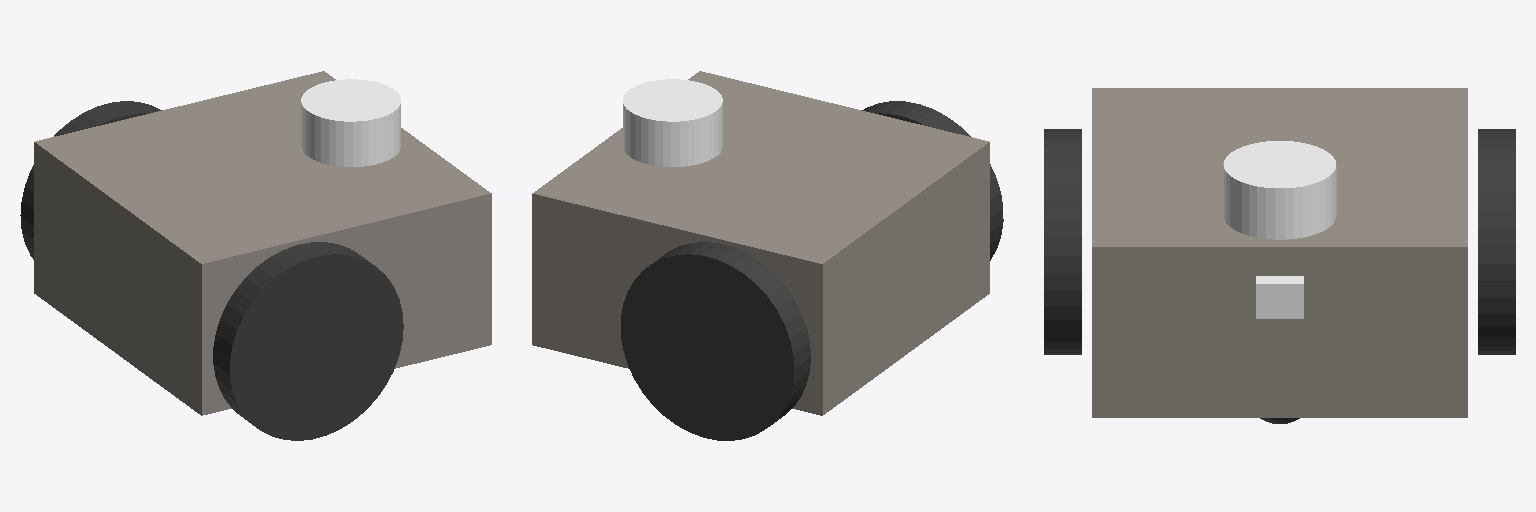
The robot description file, URDF, robot "bot_description":
<?xml version="1.0" encoding="utf-8"?>
<!-- This URDF was automatically created by SolidWorks to URDF Exporter! Originally created by [author] ([email redacted]) 
     Commit Version: 1.6.0-4-g7f85cfe  Build Version: 1.6.7995.38578
     For more information, please see http://wiki.ros.org/sw_urdf_exporter -->
<robot
  name="bot_description">
  <link
    name="base_link">
    <inertial>
      <origin
        xyz="1.19817892586804E-16 -3.12340575856866E-18 0.0700000000000001"
        rpy="0 0 0" />
      <mass
        value="29.2" />
      <inertia
        ixx="0.121666666666667"
        ixy="-1.86575292252892E-17"
        ixz="4.11563144675498E-18"
        iyy="0.121666666666667"
        iyz="4.34779527195654E-18"
        izz="0.194666666666667" />
    </inertial>
    <visual>
      <origin
        xyz="0 0 0"
        rpy="0 0 0" />
      <geometry>
        <mesh
          filename="package://bot_description/meshes/base_link.STL" />
      </geometry>
      <material
        name="">
        <color
          rgba="0.647058823529412 0.619607843137255 0.588235294117647 1" />
      </material>
    </visual>
    <collision>
      <origin
        xyz="0 0 0"
        rpy="0 0 0" />
      <geometry>
        <mesh
          filename="package://bot_description/meshes/base_link.STL" />
      </geometry>
    </collision>
  </link>
  <link
    name="right_wheel">
    <inertial>
      <origin
        xyz="0 -1.73472347597681E-18 -1.38777878078145E-17"
        rpy="0 0 0" />
      <mass
        value="0.226194671058465" />
      <inertia
        ixx="0.000211115026321234"
        ixy="-2.37875086020583E-20"
        ixz="-1.35242135145036E-20"
        iyy="0.000211115026321234"
        iyz="-5.70224546556128E-21"
        izz="0.000407150407905237" />
    </inertial>
    <visual>
      <origin
        xyz="0 0 0"
        rpy="0 0 0" />
      <geometry>
        <mesh
          filename="package://bot_description/meshes/right_wheel.STL" />
      </geometry>
      <material
        name="">
        <color
          rgba="0.298039215686275 0.298039215686275 0.298039215686275 1" />
      </material>
    </visual>
    <collision>
      <origin
        xyz="0 0 0"
        rpy="0 0 0" />
      <geometry>
        <mesh
          filename="package://bot_description/meshes/right_wheel.STL" />
      </geometry>
    </collision>
  </link>
  <joint
    name="rw_joint"
    type="continuous">
    <origin
      xyz="-0.0349999999999999 -0.115 0.0600000000000001"
      rpy="1.5707963267949 0 0" />
    <parent
      link="base_link" />
    <child
      link="right_wheel" />
    <axis
      xyz="0 0 -1" />
  </joint>
  <link
    name="left_wheel">
    <inertial>
      <origin
        xyz="0 1.73472347597681E-18 0"
        rpy="0 0 0" />
      <mass
        value="0.226194671058465" />
      <inertia
        ixx="0.000211115026321234"
        ixy="6.49391926228297E-20"
        ixz="5.39888839903748E-21"
        iyy="0.000211115026321234"
        iyz="-1.86655725846822E-20"
        izz="0.000407150407905237" />
    </inertial>
    <visual>
      <origin
        xyz="0 0 0"
        rpy="0 0 0" />
      <geometry>
        <mesh
          filename="package://bot_description/meshes/left_wheel.STL" />
      </geometry>
      <material
        name="">
        <color
          rgba="0.298039215686275 0.298039215686275 0.298039215686275 1" />
      </material>
    </visual>
    <collision>
      <origin
        xyz="0 0 0"
        rpy="0 0 0" />
      <geometry>
        <mesh
          filename="package://bot_description/meshes/left_wheel.STL" />
      </geometry>
    </collision>
  </link>
  <joint
    name="lw_joint"
    type="continuous">
    <origin
      xyz="-0.0349999999999999 0.115 0.0600000000000002"
      rpy="-1.5707963267949 0 0" />
    <parent
      link="base_link" />
    <child
      link="left_wheel" />
    <axis
      xyz="0 0 1" />
  </joint>
  <link
    name="castor_wheel">
    <inertial>
      <origin
        xyz="6.93889390390723E-18 -0.00749999999999999 0"
        rpy="0 0 0" />
      <mass
        value="0.0167551608191456" />
      <inertia
        ixx="1.73834793498635E-06"
        ixy="-8.43693195732823E-23"
        ixz="0"
        iyy="2.68082573106329E-06"
        iyz="1.0448592516744E-22"
        izz="1.73834793498635E-06" />
    </inertial>
    <visual>
      <origin
        xyz="0 0 0"
        rpy="0 0 0" />
      <geometry>
        <mesh
          filename="package://bot_description/meshes/castor_wheel.STL" />
      </geometry>
      <material
        name="">
        <color
          rgba="0.298039215686275 0.298039215686275 0.298039215686275 1" />
      </material>
    </visual>
    <collision>
      <origin
        xyz="0 0 0"
        rpy="0 0 0" />
      <geometry>
        <mesh
          filename="package://bot_description/meshes/castor_wheel.STL" />
      </geometry>
    </collision>
  </link>
  <joint
    name="cw_joint"
    type="continuous">
    <origin
      xyz="0.0610000000000001 0 0.0200000000000001"
      rpy="1.5707963267949 0 0.582927366893715" />
    <parent
      link="base_link" />
    <child
      link="castor_wheel" />
    <axis
      xyz="0 1 0" />
  </joint>
  <link
    name="camera">
    <inertial>
      <origin
        xyz="0.00499999999999999 -3.00889029223167E-17 1.04083408558608E-17"
        rpy="0 0 0" />
      <mass
        value="0.00535" />
      <inertia
        ixx="4.56979166666667E-07"
        ixy="-2.75701018240856E-23"
        ixz="-9.35585554615385E-25"
        iyy="2.22916666666667E-07"
        iyz="-1.00514918541612E-22"
        izz="3.23229166666667E-07" />
    </inertial>
    <visual>
      <origin
        xyz="0 0 0"
        rpy="0 0 0" />
      <geometry>
        <mesh
          filename="package://bot_description/meshes/camera.STL" />
      </geometry>
      <material
        name="">
        <color
          rgba="1 1 1 0.35" />
      </material>
    </visual>
    <collision>
      <origin
        xyz="0 0 0"
        rpy="0 0 0" />
      <geometry>
        <mesh
          filename="package://bot_description/meshes/camera.STL" />
      </geometry>
    </collision>
  </link>
  <joint
    name="camera_joint"
    type="fixed">
    <origin
      xyz="0.1 0 0.0927463026376843"
      rpy="0 0 0" />
    <parent
      link="base_link" />
    <child
      link="camera" />
    <axis
      xyz="0 0 0" />
  </joint>
  <link
    name="lidar_1">
    <inertial>
      <origin
        xyz="6.93889390390723E-18 -8.25320971468288E-18 -0.015"
        rpy="0 0 0" />
      <mass
        value="0.0907606117622091" />
      <inertia
        ixx="2.72281835286627E-05"
        ixy="-2.0578185688788E-23"
        ixz="-7.80090837203218E-22"
        iyy="2.72281835286627E-05"
        iyz="5.06436145085976E-22"
        izz="4.08422752929941E-05" />
    </inertial>
    <visual>
      <origin
        xyz="0 0 0"
        rpy="0 0 0" />
      <geometry>
        <mesh
          filename="package://bot_description/meshes/lidar_1.STL" />
      </geometry>
      <material
        name="">
        <color
          rgba="1 1 1 0.35" />
      </material>
    </visual>
    <collision>
      <origin
        xyz="0 0 0"
        rpy="0 0 0" />
      <geometry>
        <mesh
          filename="package://bot_description/meshes/lidar_1.STL" />
      </geometry>
    </collision>
  </link>
  <joint
    name="lidar"
    type="fixed">
    <origin
      xyz="0.0610000000000001 0 0.15"
      rpy="0 0 0" />
    <parent
      link="base_link" />
    <child
      link="lidar_1" />
    <axis
      xyz="0 0 0" />
  </joint>
  
 <gazebo>
 <plugin name="differential_drive_controller" filename="libgazebo_ros_diff_drive.so">

    <!-- Plugin update rate in Hz -->
    <updateRate>100</updateRate>

    <!-- Name of left joint, defaults to `left_joint` -->
    <leftJoint>lw_joint</leftJoint>

    <!-- Name of right joint, defaults to `right_joint` -->
    <rightJoint>rw_joint</rightJoint>

    <!-- The distance from the center of one wheel to the other, in meters, defaults to 0.34 m -->
    <wheelSeparation>0.25</wheelSeparation>

    <!-- Diameter of the wheels, in meters, defaults to 0.15 m -->
    <wheelDiameter>0.12</wheelDiameter>

    <!-- Wheel acceleration, in rad/s^2, defaults to 0.0 rad/s^2 -->
    <wheelAcceleration>1.0</wheelAcceleration>

    <!-- Maximum torque which the wheels can produce, in Nm, defaults to 5 Nm -->
    <wheelTorque>20</wheelTorque>

    <!-- Topic to receive geometry_msgs/Twist message commands, defaults to `cmd_vel` -->
    <commandTopic>cmd_vel</commandTopic>

    <!-- Topic to publish nav_msgs/Odometry messages, defaults to `odom` -->
    <odometryTopic>odom</odometryTopic>

    <!-- Odometry frame, defaults to `odom` -->
    <odometryFrame>odom</odometryFrame>

    <!-- Robot frame to calculate odometry from, defaults to `base_footprint` -->
    <robotBaseFrame>base_link</robotBaseFrame>

    <!-- Odometry source, 0 for ENCODER, 1 for WORLD, defaults to WORLD -->
    <odometrySource>1</odometrySource>

    <!-- Set to true to publish transforms for the wheel links, defaults to false -->
    <publishWheelTF>true</publishWheelTF>

    <!-- Set to true to publish transforms for the odometry, defaults to true -->
    <publishOdom>true</publishOdom>

    <!-- Set to true to publish sensor_msgs/JointState on /joint_states for the wheel joints, defaults to false -->
    <publishWheelJointState>true</publishWheelJointState>

    <!-- Set to true to swap right and left wheels, defaults to true -->
    <legacyMode>false</legacyMode>
  </plugin>
</gazebo>
  <!-- hokuyo -->
  <gazebo reference="lidar_1">
      <sensor type="ray" name="head_hokuyo_sensor">
      <pose>0 0 0 0 0 0</pose>
      <visualize>true</visualize>
      <update_rate>40</update_rate>
      <ray>
        <scan>
          <horizontal>
            <samples>720</samples>
            <resolution>1</resolution>
            <min_angle>-1.570796</min_angle>
            <max_angle>1.570796</max_angle>
          </horizontal>
        </scan>
        <range>
          <min>0.10</min>
          <max>30.0</max>
          <resolution>0.01</resolution>
        </range>
        <noise>
          <type>gaussian</type>
          <!-- Noise parameters based on published spec for Hokuyo laser
               achieving "+-30mm" accuracy at range < 10m.  A mean of 0.0m and
               stddev of 0.01m will put 99.7% of samples within 0.03m of the true
               reading. -->
          <mean>0.0</mean>
          <stddev>0.01</stddev>
        </noise>
      </ray>
      <plugin name="gazebo_ros_head_hokuyo_controller" filename="libgazebo_ros_laser.so">
        <topicName>/scan</topicName>
        <frameName>lidar_1</frameName>
      </plugin>
    </sensor>
  </gazebo>
  
 <!-- camera -->
  <gazebo reference="camera">
    <sensor type="camera" name="camera1">
      <update_rate>30.0</update_rate>
      <camera name="head">
        <horizontal_fov>1.3962634</horizontal_fov>
        <image>
          <width>800</width>
          <height>800</height>
          <format>R8G8B8</format>
        </image>
        <clip>
          <near>0.02</near>
          <far>300</far>
        </clip>
        <noise>
          <type>gaussian</type>
          <!-- Noise is sampled independently per pixel on each frame.
               That pixel's noise value is added to each of its color
               channels, which at that point lie in the range [0,1]. -->
          <mean>0.0</mean>
          <stddev>0.007</stddev>
        </noise>
      </camera>
      <plugin name="camera_controller" filename="libgazebo_ros_camera.so">
        <alwaysOn>true</alwaysOn>
        <updateRate>0.0</updateRate>
        <cameraName>camera1</cameraName>
        <imageTopicName>image_raw</imageTopicName>
        <cameraInfoTopicName>camera_info</cameraInfoTopicName>
        <frameName>camera</frameName>
        <hackBaseline>0.07</hackBaseline>
        <distortionK1>0.0</distortionK1>
        <distortionK2>0.0</distortionK2>
        <distortionK3>0.0</distortionK3>
        <distortionT1>0.0</distortionT1>
        <distortionT2>0.0</distortionT2>
      </plugin>
    </sensor>
  </gazebo> 
</robot>

--- Facts derived from the render (not from the file) ---
3 views of the same robot in one strip: view 1: azimuth 30°, elevation 25°; view 2: azimuth 150°, elevation 25°; view 3: azimuth 270°, elevation 25° (orthographic).
Robot: bot_description — 6 links, 5 joints (3 continuous, 2 fixed); root link base_link; default pose: all joints at 0.
Visible links, largest first — view 1: base_link, right_wheel, lidar_1, left_wheel; view 2: base_link, left_wheel, lidar_1, right_wheel; view 3: base_link, lidar_1, right_wheel, left_wheel, camera.
Link boxes in pixels (left/top/right/bottom): base_link: left=34, top=71, right=491, bottom=415; right_wheel: left=213, top=242, right=403, bottom=440; lidar_1: left=301, top=79, right=400, bottom=166; left_wheel: left=20, top=101, right=161, bottom=259; base_link: left=532, top=71, right=989, bottom=415; left_wheel: left=621, top=242, right=810, bottom=440; lidar_1: left=623, top=79, right=722, bottom=166; right_wheel: left=862, top=101, right=1003, bottom=260; base_link: left=1092, top=88, right=1467, bottom=417; lidar_1: left=1223, top=141, right=1336, bottom=239; right_wheel: left=1044, top=129, right=1081, bottom=354; left_wheel: left=1478, top=129, right=1515, bottom=354; camera: left=1256, top=276, right=1303, bottom=318.
Bounding box of the posed robot: 0.21 × 0.25 × 0.15 m (x, y, z).
6 mesh visuals loaded from 6 distinct referenced files (6 binary STL).
